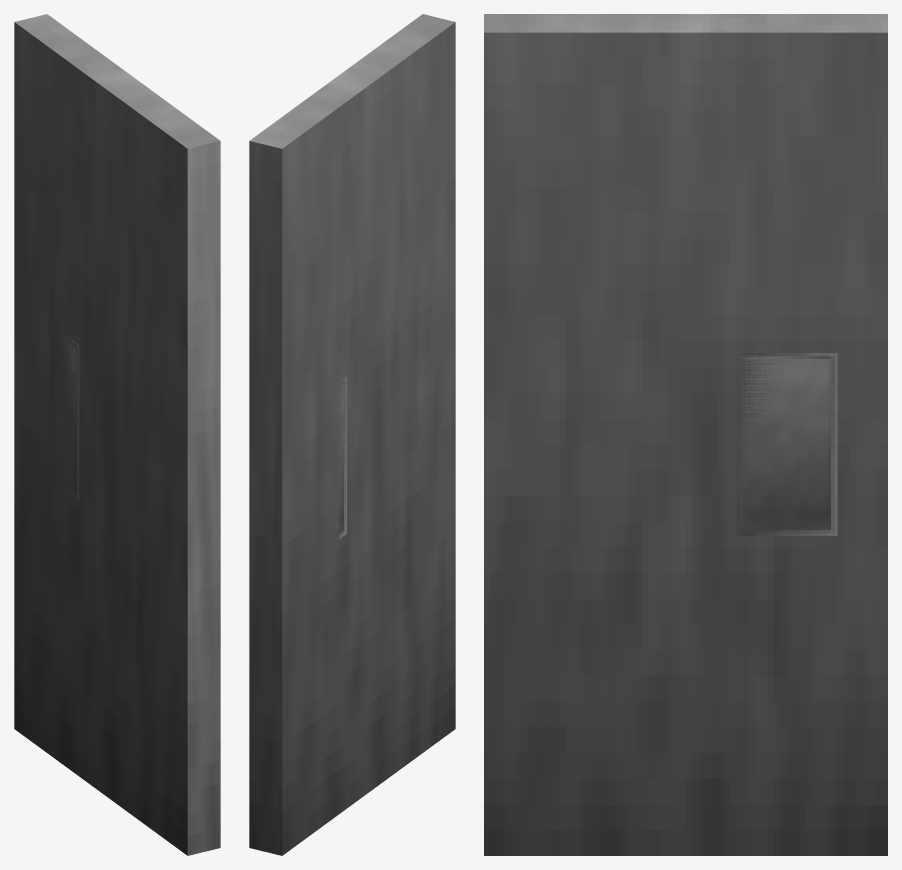
The model's file is primary_221.glb.
3 views of the same model, side by side, from view 1: azimuth 30°, elevation 25°; view 2: azimuth 150°, elevation 25°; view 3: azimuth 270°, elevation 25° (orthographic). The views are drawn at different scales.
Parts seen in each view (by area): view 1: Object; view 2: Object; view 3: Object.
Boxes of the visible parts, x1=… form: Object: x1=14, y1=14, x2=220, y2=855; Object: x1=249, y1=14, x2=455, y2=855; Object: x1=484, y1=14, x2=887, y2=855.
Size of the model in its own units: 0.1313 by 2.7 by 1.2.
4 materials, 4 textured.
